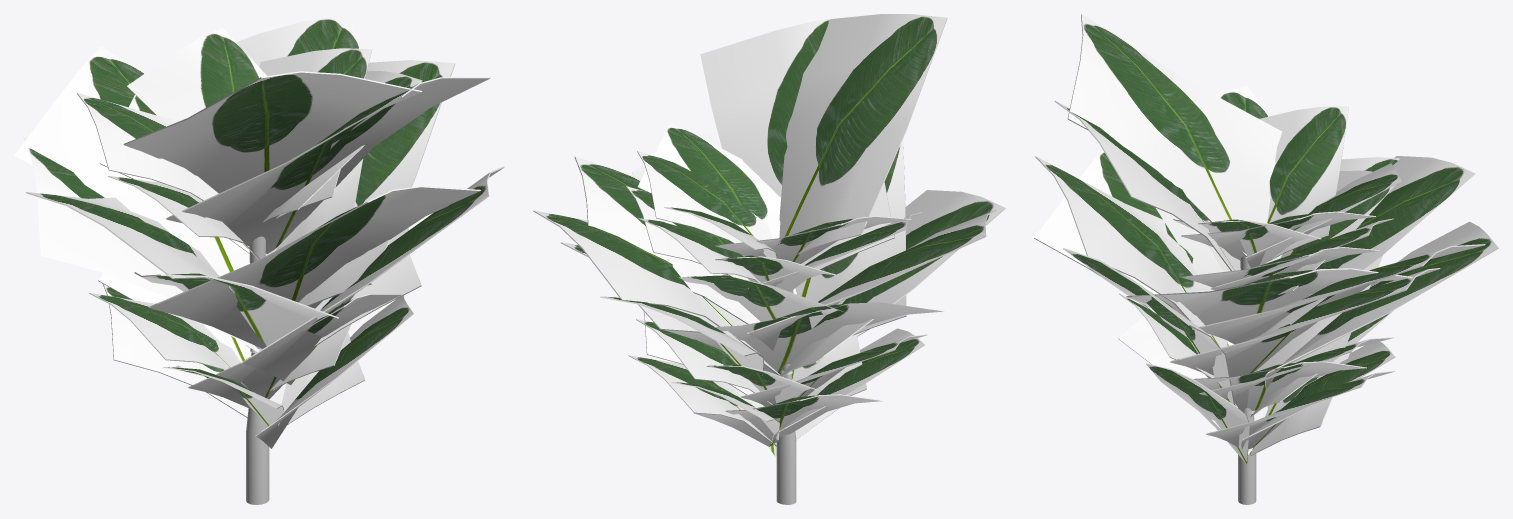
Rendered from arbuste3.FBX.
3 renders of one model, left to right at view 1: azimuth 30°, elevation 25°; view 2: azimuth 150°, elevation 25°; view 3: azimuth 270°, elevation 25°, orthographic. The views are drawn at different scales.
Visible parts, largest first — view 1: Plane018, Plane005, Plane025, Plane004, Plane026, Plane007, Plane016, Plane032, Plane017, Plane008, Plane009, Plane028 (+14 smaller); view 2: Plane018, Plane025, Plane006, Plane028, Plane007, Plane014, Plane015, Plane026, Plane008, Plane005, Plane004, Plane020 (+17 smaller); view 3: Plane018, Plane005, Plane017, Plane004, Plane027, Plane007, Plane029, Plane025, Plane006, Plane028, Plane032, Plane033 (+17 smaller).
Boxes of the visible parts, <box> form: Plane018: <box>123,71,422,193</box>; Plane005: <box>149,186,480,348</box>; Plane025: <box>166,77,490,253</box>; Plane004: <box>14,46,249,276</box>; Plane026: <box>23,137,259,351</box>; Plane007: <box>299,60,455,305</box>; Plane016: <box>127,28,266,120</box>; Plane032: <box>241,166,504,384</box>; Plane017: <box>77,93,218,200</box>; Plane008: <box>26,192,235,293</box>; Plane009: <box>89,292,248,388</box>; Plane028: <box>134,272,338,349</box>; Plane018: <box>779,14,947,254</box>; Plane025: <box>700,15,894,269</box>; Plane006: <box>533,210,760,354</box>; Plane028: <box>780,190,1005,376</box>; Plane007: <box>574,156,796,324</box>; Plane014: <box>637,122,780,238</box>; Plane015: <box>637,151,773,243</box>; Plane026: <box>664,302,943,374</box>; Plane008: <box>747,210,996,350</box>; Plane005: <box>795,139,906,335</box>; Plane004: <box>678,275,844,328</box>; Plane020: <box>693,394,882,446</box>; Plane018: <box>1067,14,1282,256</box>; Plane005: <box>1035,156,1227,347</box>; Plane017: <box>1259,106,1348,265</box>; Plane004: <box>1260,156,1475,335</box>; Plane027: <box>1264,221,1498,389</box>; Plane007: <box>1126,268,1412,344</box>; Plane029: <box>1170,268,1440,376</box>; Plane025: <box>1054,101,1240,270</box>; Plane006: <box>1192,244,1485,344</box>; Plane028: <box>1034,150,1233,345</box>; Plane032: <box>1063,248,1234,404</box>; Plane033: <box>1145,363,1250,464</box>.
Size of the model in its own units: 117 by 127 by 120.
1 material, 1 textured.
